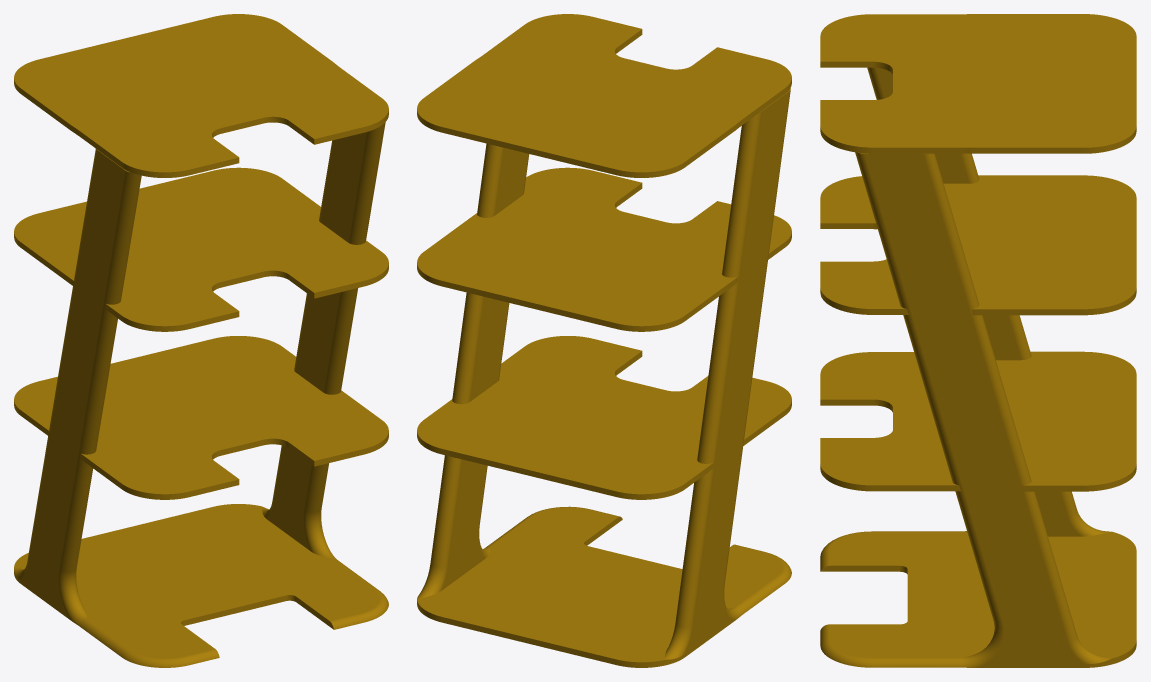
File: payload_2.dae
3 renders of one model, left to right at view 1: azimuth 30°, elevation 25°; view 2: azimuth 150°, elevation 25°; view 3: azimuth 270°, elevation 25°, orthographic. The views are drawn at different scales.
Parts seen in each view (by area): view 1: ID2; view 2: ID2; view 3: ID2.
Part boxes in pixels (left/top/right/bottom): ID2: left=14, top=14, right=388, bottom=667; ID2: left=417, top=14, right=791, bottom=667; ID2: left=820, top=14, right=1136, bottom=667.
Size of the model in its own units: 0.48 by 0.4791 by 0.87.
